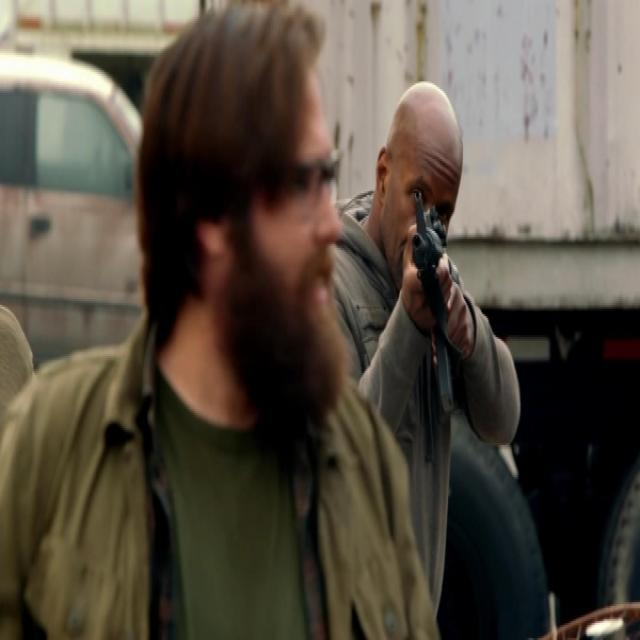rifle: (411, 186, 459, 429)
